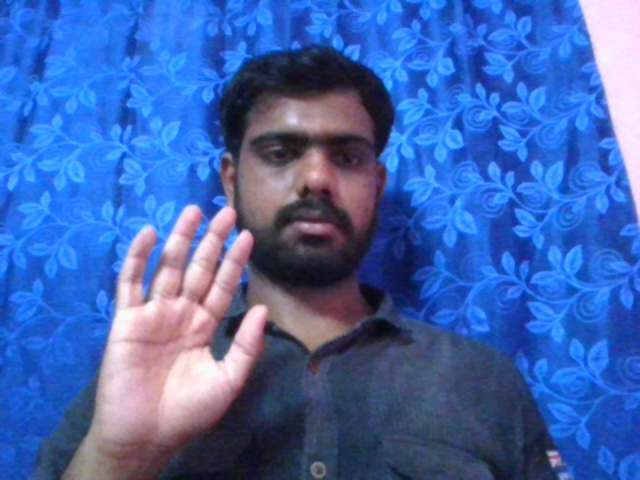Hello: (89, 203, 270, 462)
